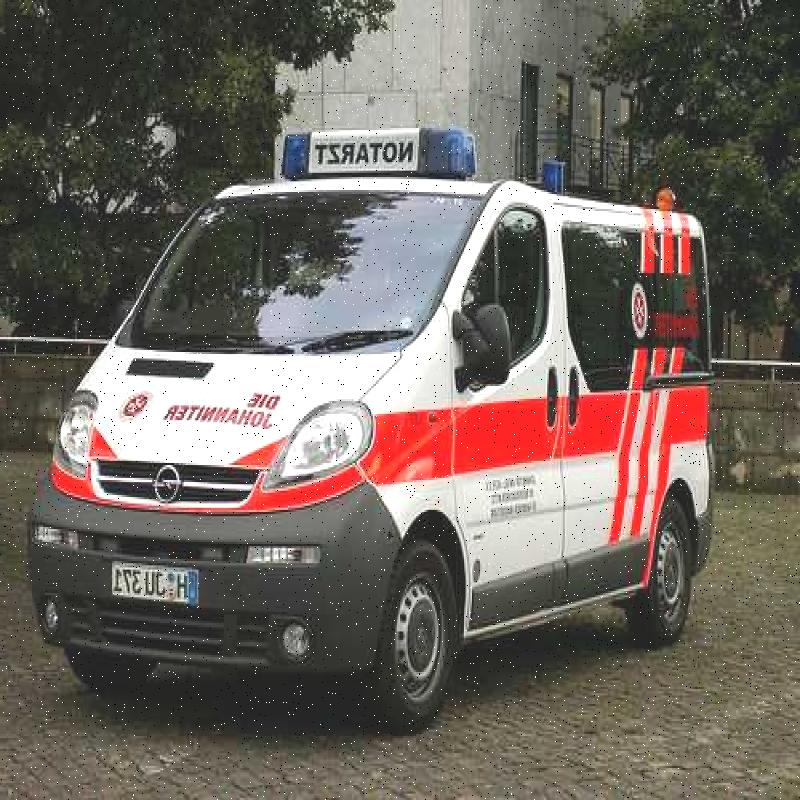AmbulanceSiren: (260, 84, 490, 197)
